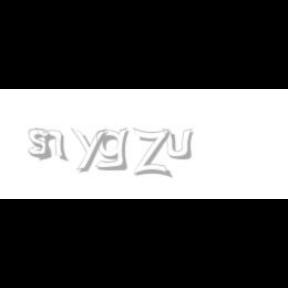Z: (134, 128, 170, 178)
g: (96, 128, 132, 171)
n: (35, 128, 69, 162)
s: (28, 128, 56, 160)
u: (162, 128, 196, 160)
y: (71, 128, 111, 172)
